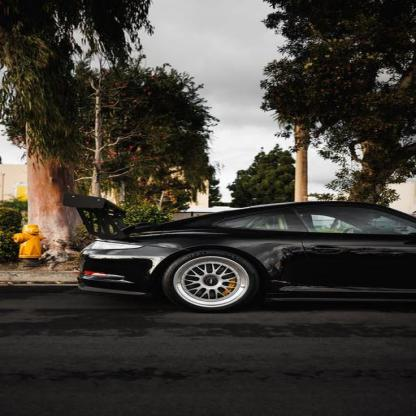Tire: (157, 248, 266, 314)
